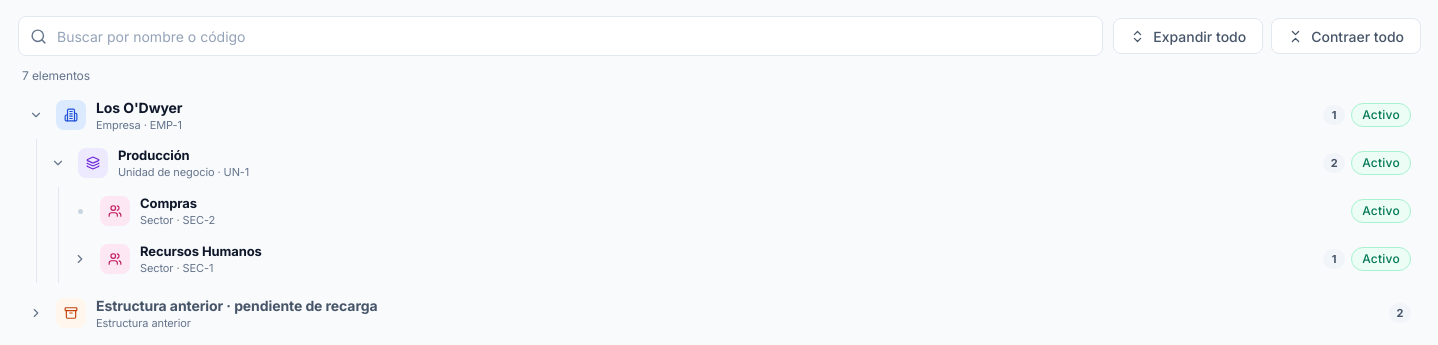
Test: StructureTreeView › la búsqueda filtra, abre los ancestros y resalta la coincidencia
The width and height of the screenshot is (1438, 345).
Type "compras" into the field named "Buscar en la estructura".
click(561, 36); type("compras")  # box [19, 17, 1102, 55]
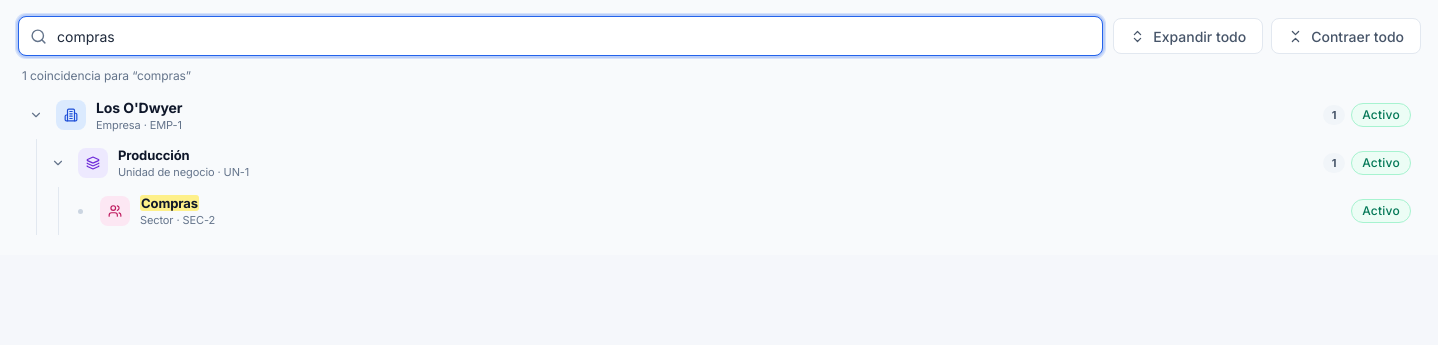
Expected: the text "1 coincidencia para “compras”" is shown, [22, 68, 191, 83]
Expected: the text "Compras" is shown, [140, 195, 199, 211]
